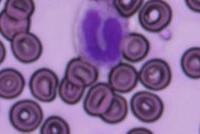N: (73, 1, 130, 68)
